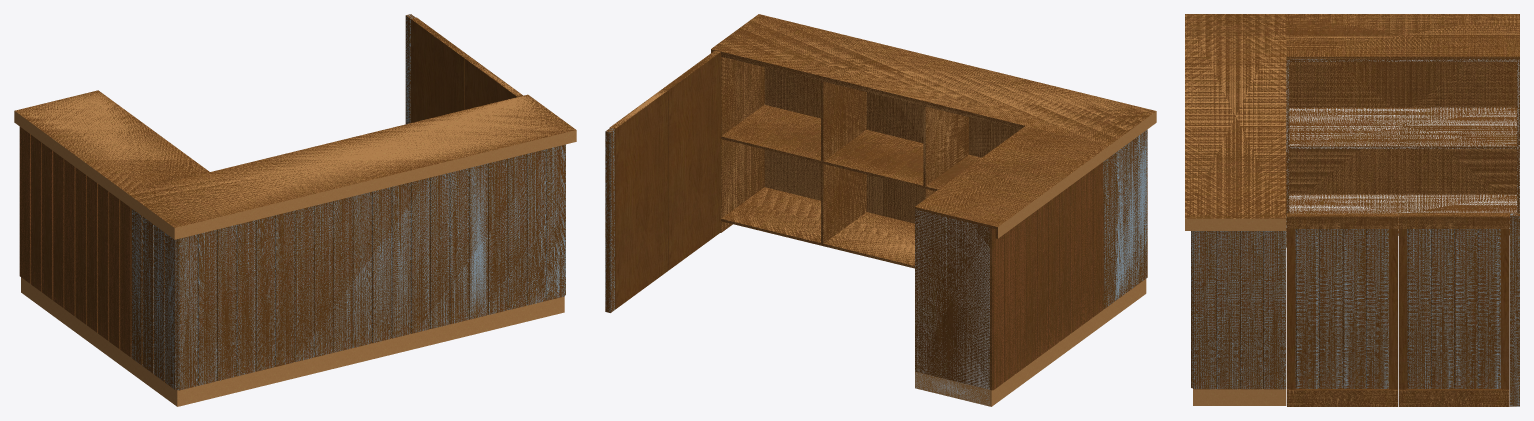
The model's file is Sin+título.obj.
3 renders of one model, left to right at view 1: azimuth 30°, elevation 25°; view 2: azimuth 150°, elevation 25°; view 3: azimuth 270°, elevation 25°, orthographic. The views are drawn at different scales.
Visible parts, largest first — view 1: Mesh25 Group6 Group2 Group1 Model, Mesh95 Group11 Group7 Group1 Model, Mesh7 Group5 Group3 Group2 Group1 Model, Mesh129 Group14 Componente_4_2 Group1 Model, Mesh61 Componente_142_18 Group2 Group1 Model, Mesh55 Componente_142_15 Group2 Group1 Model, Mesh41 Componente_142_8 Group2 Group1 Model, Mesh63 Componente_142_19 Group2 Group1 Model, Mesh39 Componente_142_7 Group2 Group1 Model, Mesh47 Componente_142_11 Group2 Group1 Model, Mesh51 Componente_142_13 Group2 Group1 Model, Mesh53 Componente_142_14 Group2 Group1 Model (+30 smaller); view 2: Mesh25 Group6 Group2 Group1 Model, Mesh91 Componente_140_3 Group8 Group7 Group1 Model, Mesh95 Group11 Group7 Group1 Model, Mesh119 Group13 Componente_4_1 Group1 Model, Mesh129 Group14 Componente_4_2 Group1 Model, Mesh7 Group5 Group3 Group2 Group1 Model, Mesh3 Componente_141_2 Group4 Group3 Group2 Group1 Model, Mesh5 Componente_141_3 Group4 Group3 Group2 Group1 Model, Mesh11 Componente_140_2 Group3 Group2 Group1 Model, Mesh13 Componente_14_1 Group3 Group2 Group1 Model, Mesh17 Componente_14_3 Group3 Group2 Group1 Model, Mesh19 Componente_14_4 Group3 Group2 Group1 Model (+18 smaller); view 3: Mesh25 Group6 Group2 Group1 Model, Mesh89 Group10 Group8 Group7 Group1 Model, Mesh95 Group11 Group7 Group1 Model, Mesh85 Componente_146_2 Group9 Group8 Group7 Group1 Model, Mesh129 Group14 Componente_4_2 Group1 Model, Mesh119 Group13 Componente_4_1 Group1 Model, Mesh87 Componente_146_3 Group9 Group8 Group7 Group1 Model, Mesh121 Componente_3_1 Componente_4_1 Group1 Model, Mesh135 Componente_3_7 Componente_4_2 Group1 Model, Mesh137 Componente_3_8 Componente_4_2 Group1 Model, Mesh123 Componente_3_2 Componente_4_1 Group1 Model, Mesh125 Componente_3_3 Componente_4_1 Group1 Model (+13 smaller).
Boxes of the visible parts, x1=… form: Mesh25 Group6 Group2 Group1 Model: x1=126, y1=94, x2=576, y2=239; Mesh95 Group11 Group7 Group1 Model: x1=14, y1=90, x2=209, y2=203; Mesh7 Group5 Group3 Group2 Group1 Model: x1=176, y1=296, x2=564, y2=406; Mesh129 Group14 Componente_4_2 Group1 Model: x1=410, y1=17, x2=469, y2=122; Mesh61 Componente_142_18 Group2 Group1 Model: x1=177, y1=234, x2=197, y2=390; Mesh55 Componente_142_15 Group2 Group1 Model: x1=332, y1=196, x2=352, y2=352; Mesh41 Componente_142_8 Group2 Group1 Model: x1=236, y1=220, x2=255, y2=376; Mesh63 Componente_142_19 Group2 Group1 Model: x1=449, y1=168, x2=468, y2=324; Mesh39 Componente_142_7 Group2 Group1 Model: x1=255, y1=215, x2=274, y2=371; Mesh47 Componente_142_11 Group2 Group1 Model: x1=391, y1=182, x2=410, y2=338; Mesh51 Componente_142_13 Group2 Group1 Model: x1=371, y1=187, x2=390, y2=343; Mesh53 Componente_142_14 Group2 Group1 Model: x1=197, y1=229, x2=216, y2=385; Mesh25 Group6 Group2 Group1 Model: x1=711, y1=14, x2=1156, y2=157; Mesh91 Componente_140_3 Group8 Group7 Group1 Model: x1=915, y1=209, x2=989, y2=406; Mesh95 Group11 Group7 Group1 Model: x1=915, y1=126, x2=1108, y2=238; Mesh119 Group13 Componente_4_1 Group1 Model: x1=662, y1=50, x2=720, y2=270; Mesh129 Group14 Componente_4_2 Group1 Model: x1=609, y1=89, x2=667, y2=309; Mesh7 Group5 Group3 Group2 Group1 Model: x1=764, y1=67, x2=1146, y2=293; Mesh3 Componente_141_2 Group4 Group3 Group2 Group1 Model: x1=721, y1=104, x2=981, y2=191; Mesh5 Componente_141_3 Group4 Group3 Group2 Group1 Model: x1=721, y1=187, x2=914, y2=268; Mesh11 Componente_140_2 Group3 Group2 Group1 Model: x1=720, y1=54, x2=764, y2=232; Mesh13 Componente_14_1 Group3 Group2 Group1 Model: x1=923, y1=106, x2=968, y2=186; Mesh17 Componente_14_3 Group3 Group2 Group1 Model: x1=821, y1=81, x2=866, y2=161; Mesh19 Componente_14_4 Group3 Group2 Group1 Model: x1=821, y1=163, x2=866, y2=243; Mesh25 Group6 Group2 Group1 Model: x1=1185, y1=14, x2=1286, y2=230; Mesh89 Group10 Group8 Group7 Group1 Model: x1=1289, y1=62, x2=1516, y2=194; Mesh95 Group11 Group7 Group1 Model: x1=1286, y1=14, x2=1519, y2=59; Mesh85 Componente_146_2 Group9 Group8 Group7 Group1 Model: x1=1289, y1=107, x2=1516, y2=148; Mesh129 Group14 Componente_4_2 Group1 Model: x1=1398, y1=213, x2=1509, y2=406; Mesh119 Group13 Componente_4_1 Group1 Model: x1=1287, y1=213, x2=1397, y2=406; Mesh87 Componente_146_3 Group9 Group8 Group7 Group1 Model: x1=1289, y1=194, x2=1516, y2=235; Mesh121 Componente_3_1 Componente_4_1 Group1 Model: x1=1342, y1=229, x2=1365, y2=388; Mesh135 Componente_3_7 Componente_4_2 Group1 Model: x1=1477, y1=229, x2=1500, y2=388; Mesh137 Componente_3_8 Componente_4_2 Group1 Model: x1=1407, y1=229, x2=1430, y2=388; Mesh123 Componente_3_2 Componente_4_1 Group1 Model: x1=1319, y1=229, x2=1342, y2=388; Mesh125 Componente_3_3 Componente_4_1 Group1 Model: x1=1365, y1=229, x2=1388, y2=388.
Bounding box in the file's own units: 2490 × 1085 × 1720.
